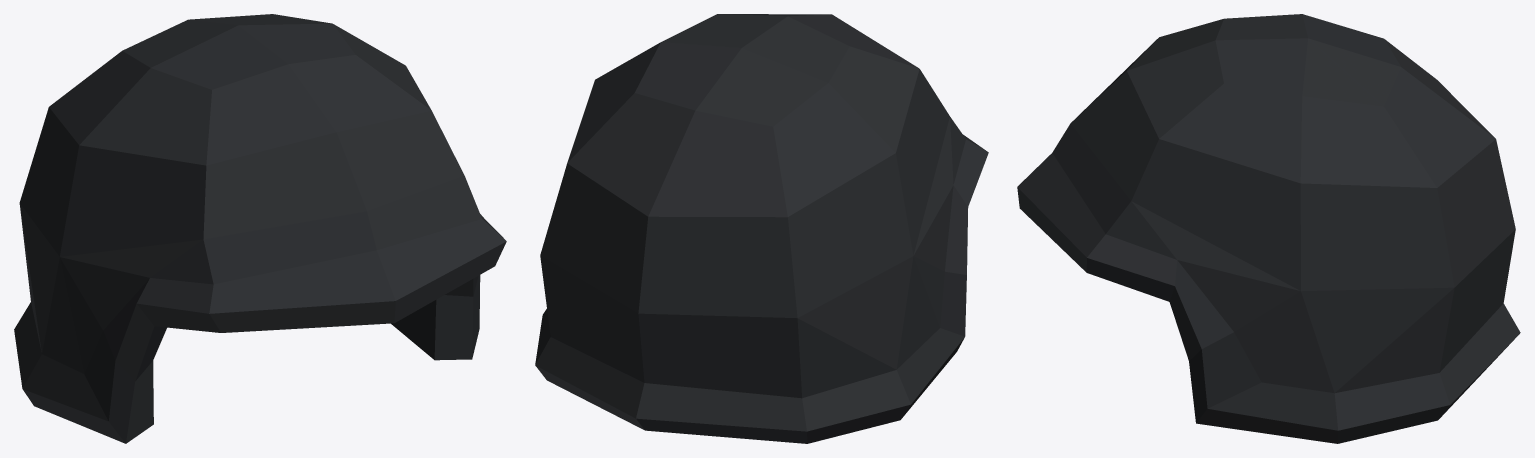
The model's file is SM_Chr_Attach_Helmet_02.fbx.
The picture shows the model from 3 angles, left to right: view 1: azimuth 30°, elevation 25°; view 2: azimuth 150°, elevation 25°; view 3: azimuth 270°, elevation 25°; orthographic projection. The views are drawn at different scales.
Visible parts, largest first — view 1: SM_Chr_Attach_Helmet_02; view 2: SM_Chr_Attach_Helmet_02; view 3: SM_Chr_Attach_Helmet_02.
Part boxes in pixels (box(x1,y1,x2,y2)): SM_Chr_Attach_Helmet_02: box(14, 14, 506, 443); SM_Chr_Attach_Helmet_02: box(535, 14, 988, 443); SM_Chr_Attach_Helmet_02: box(1017, 14, 1520, 443).
Size of the model in its own units: 32.13 by 26.61 by 37.87.
